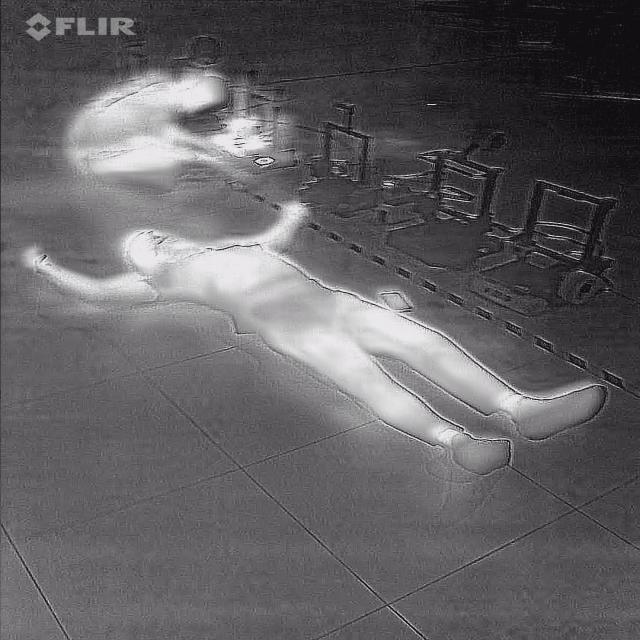Victim: (16, 198, 614, 474), (58, 64, 251, 194)
